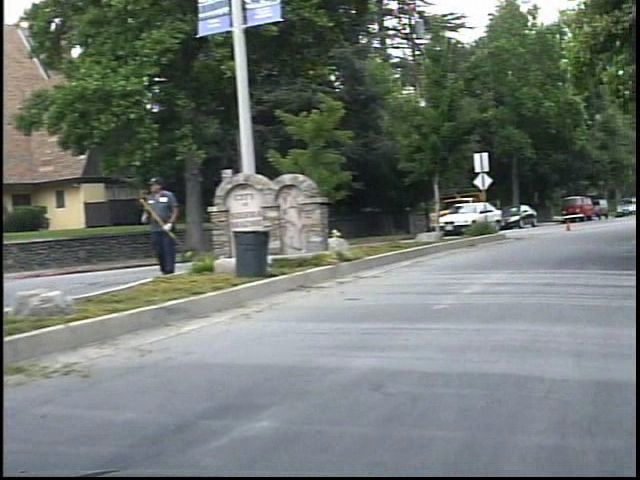person: (150, 170, 193, 278)
